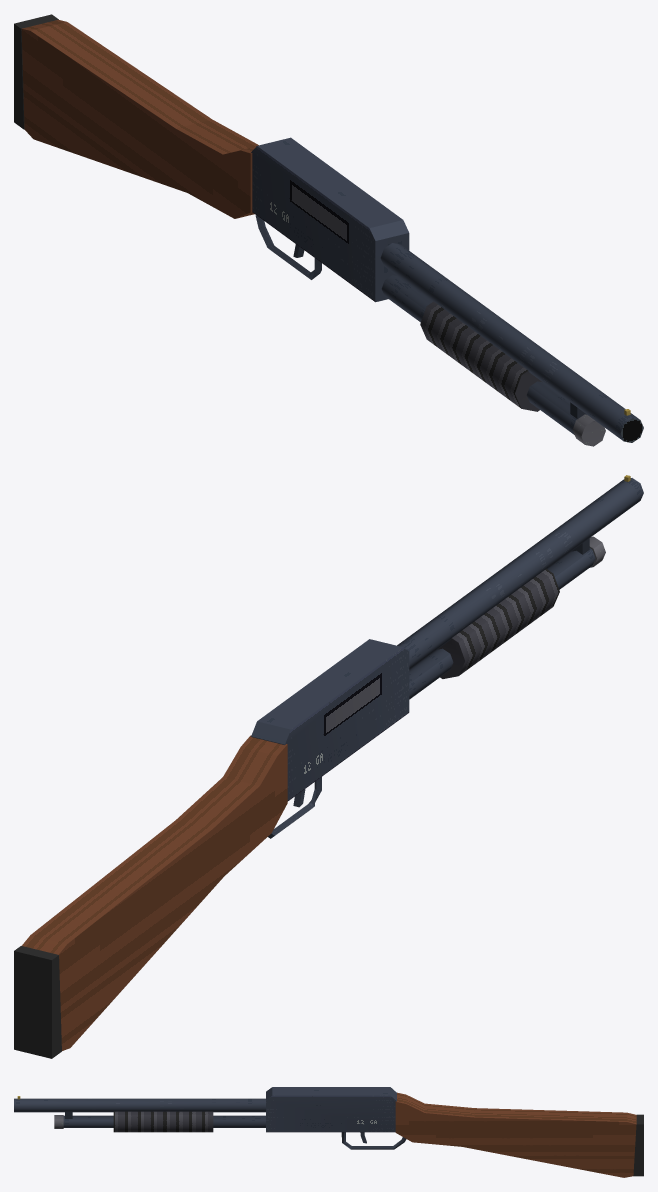
File: pump_shotgun_model.glb
3 renders of one model, top to bottom at view 1: azimuth 30°, elevation 25°; view 2: azimuth 150°, elevation 25°; view 3: azimuth 270°, elevation 25°, orthographic. The views are drawn at different scales.
Parts seen in each view (by area): view 1: pump_shotgun, pump_shotgun_pump; view 2: pump_shotgun, pump_shotgun_pump; view 3: pump_shotgun, pump_shotgun_pump.
Part boxes in pixels (bbox=[...]): pump_shotgun: bbox=[14, 14, 643, 446]; pump_shotgun_pump: bbox=[420, 301, 542, 411]; pump_shotgun: bbox=[14, 475, 643, 1058]; pump_shotgun_pump: bbox=[438, 569, 559, 678]; pump_shotgun: bbox=[14, 1087, 643, 1177]; pump_shotgun_pump: bbox=[113, 1111, 213, 1132].
Size of the model in its own units: 0.044 by 0.145 by 1.01.
Materials: 1 (1 with a texture image).
